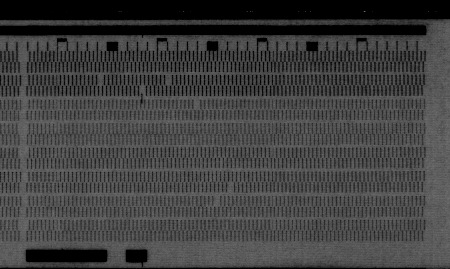Broken hole: (192, 99, 204, 113), (211, 196, 223, 208), (163, 75, 175, 86), (95, 75, 107, 86), (225, 183, 236, 194)
Oblique printing: (138, 85, 148, 101)
